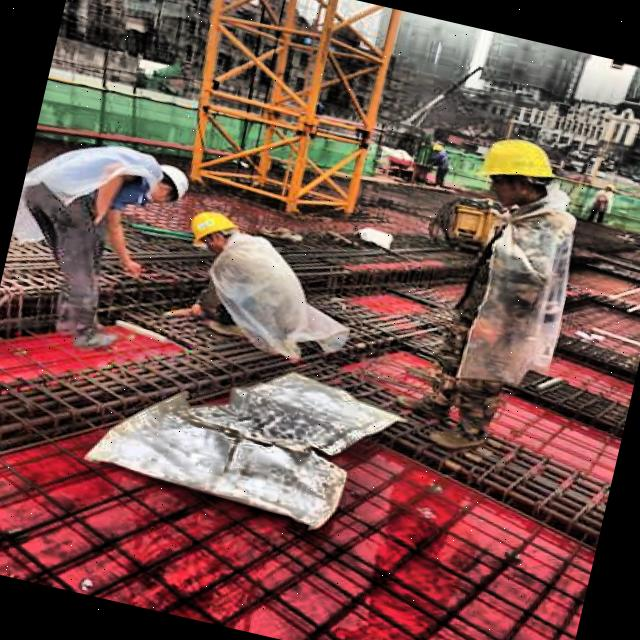helmet: (464, 124, 568, 218), (130, 152, 200, 215), (180, 204, 242, 259)
